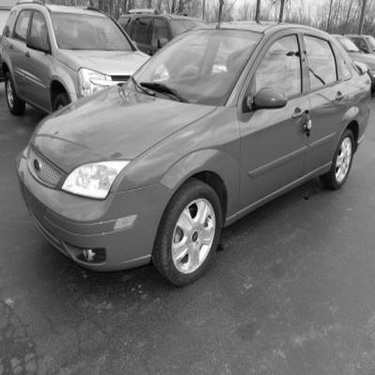car: (15, 19, 372, 292), (1, 1, 174, 121), (110, 4, 229, 86), (325, 31, 375, 92), (346, 33, 375, 59)
